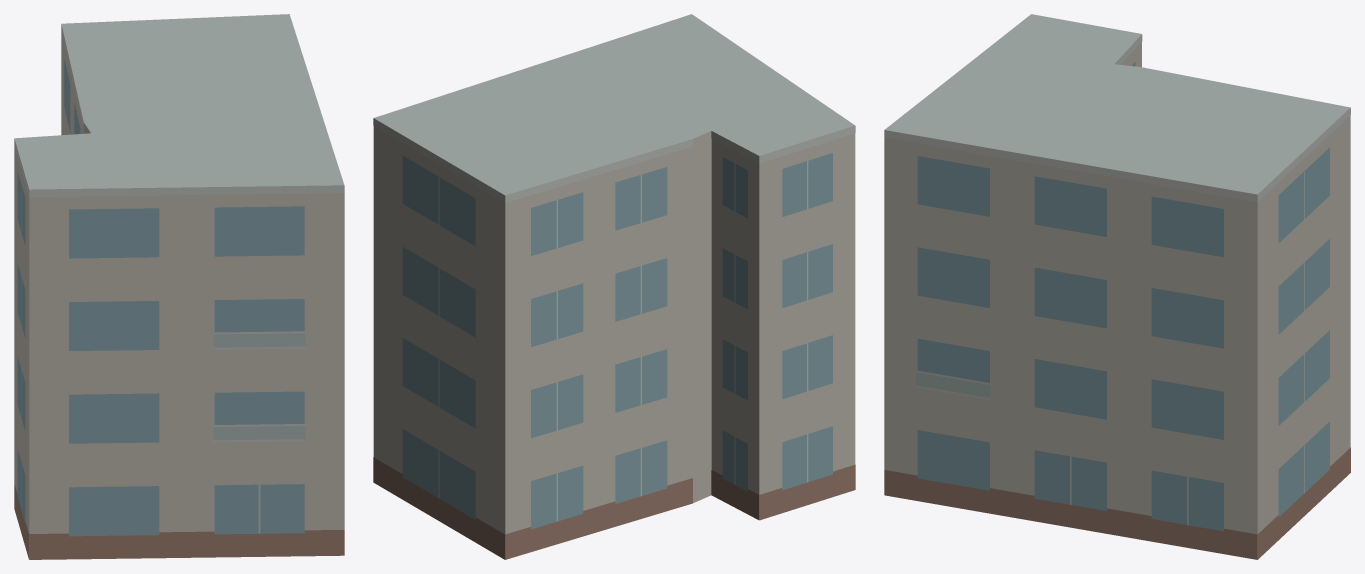
File: survey-upis-32937073.glb
The picture shows the model from 3 angles, left to right: view 1: azimuth 30°, elevation 25°; view 2: azimuth 150°, elevation 25°; view 3: azimuth 270°, elevation 25°; orthographic projection.
Visible parts, largest first — view 1: survey-upis-32937073.tmp; view 2: survey-upis-32937073.tmp; view 3: survey-upis-32937073.tmp.
Boxes of the visible parts, x1,y1,x2,y2 form: survey-upis-32937073.tmp: (14, 14, 344, 559); survey-upis-32937073.tmp: (373, 14, 855, 559); survey-upis-32937073.tmp: (884, 14, 1350, 559).
Size of the model in its own units: 12.44 by 11.73 by 13.58.
